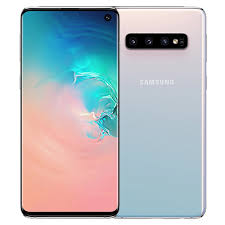samsung: (18, 7, 120, 218), (117, 5, 207, 219)
